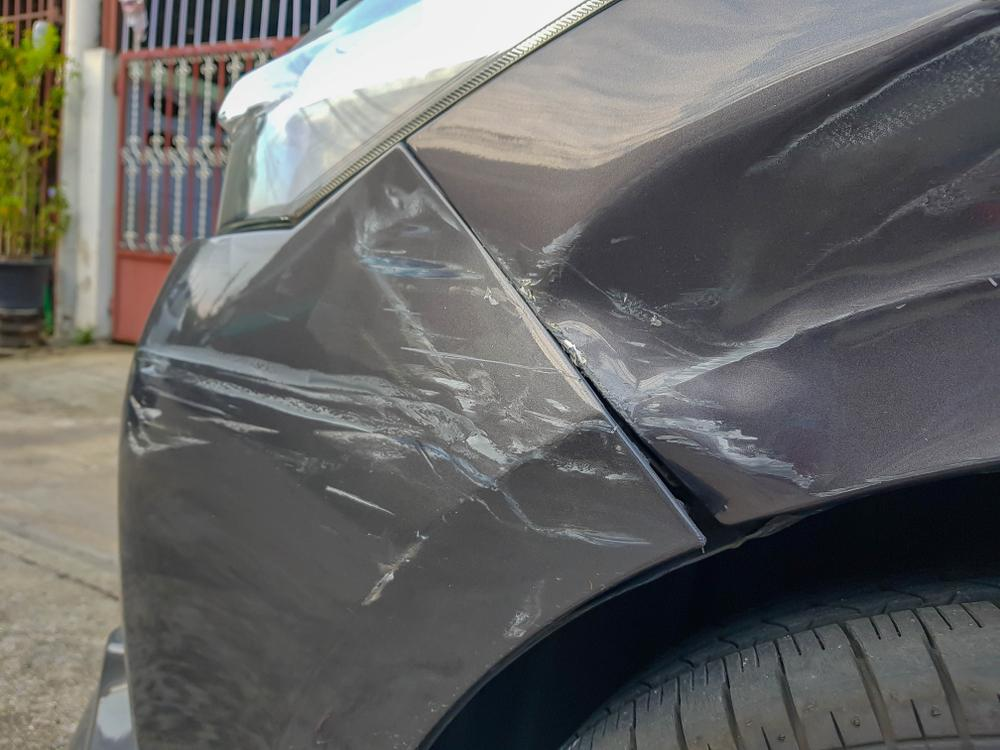dent: (538, 4, 1000, 496)
scratch: (116, 172, 658, 640)
